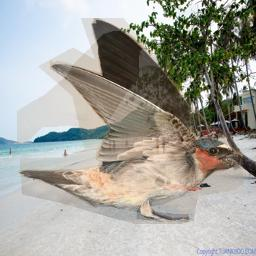Swallow: (17, 18, 243, 224)
